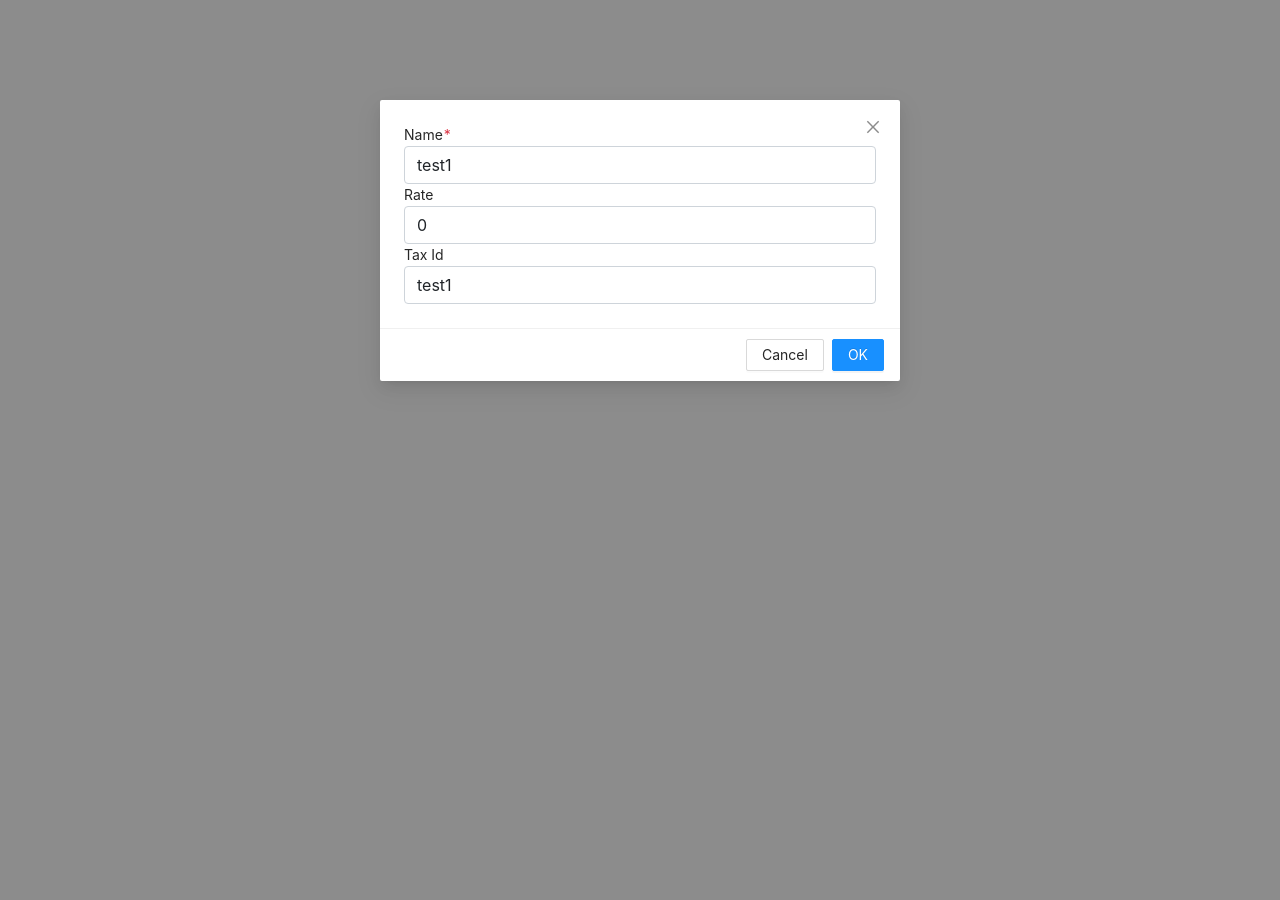
Test case: when add or edit, the rate cant be 0
Click the button "OK" at (858, 355), box [832,339,884,371]
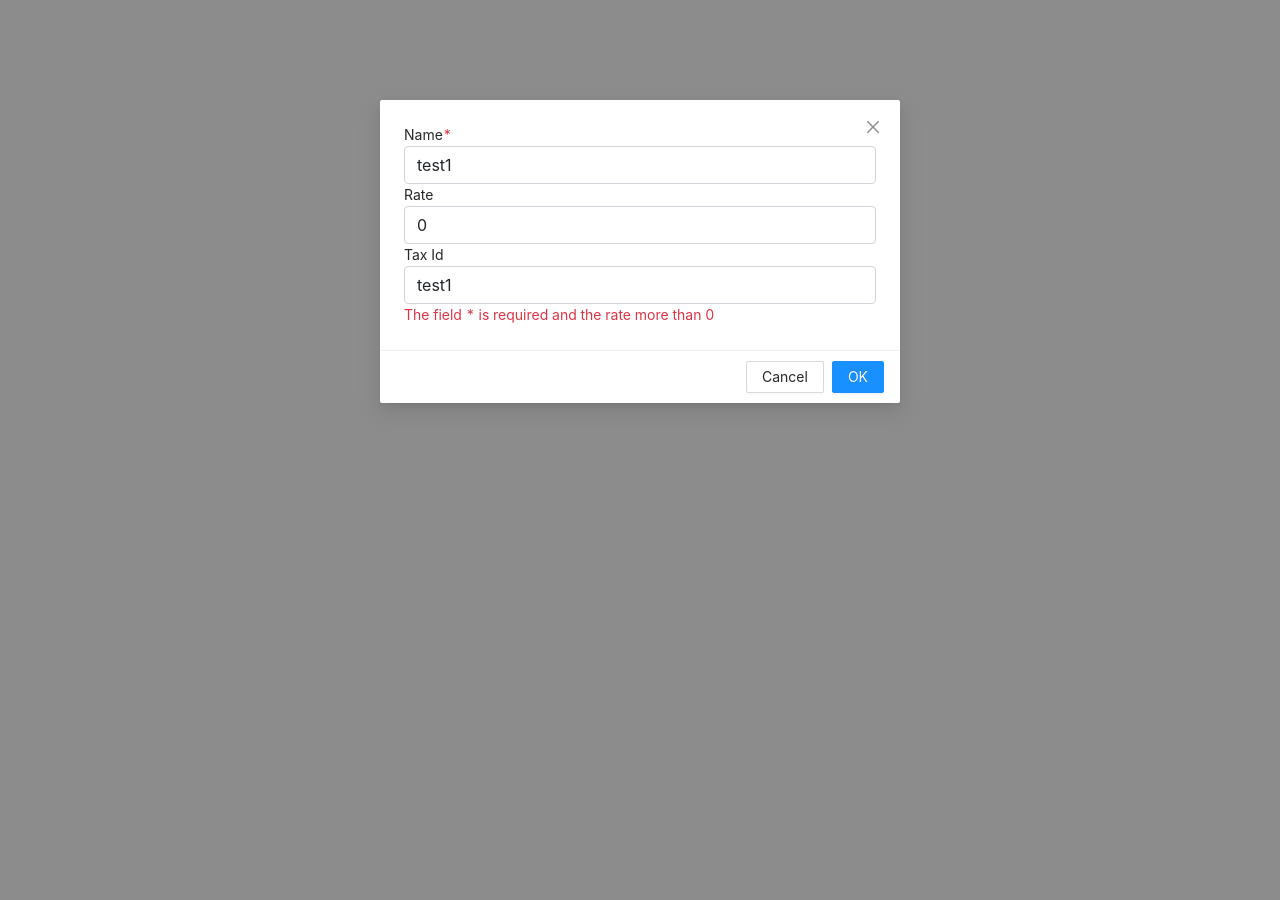
Now the text "The field * is required and the rate more than 0" is shown, box [404,306,714,323]
